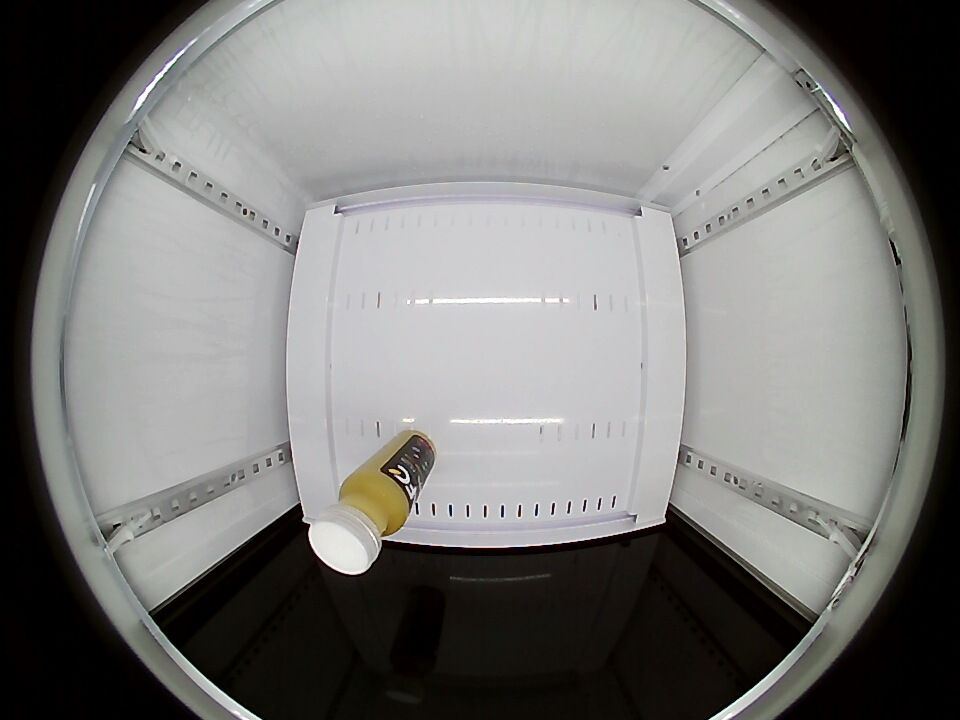nfc: (308, 470, 414, 575)
